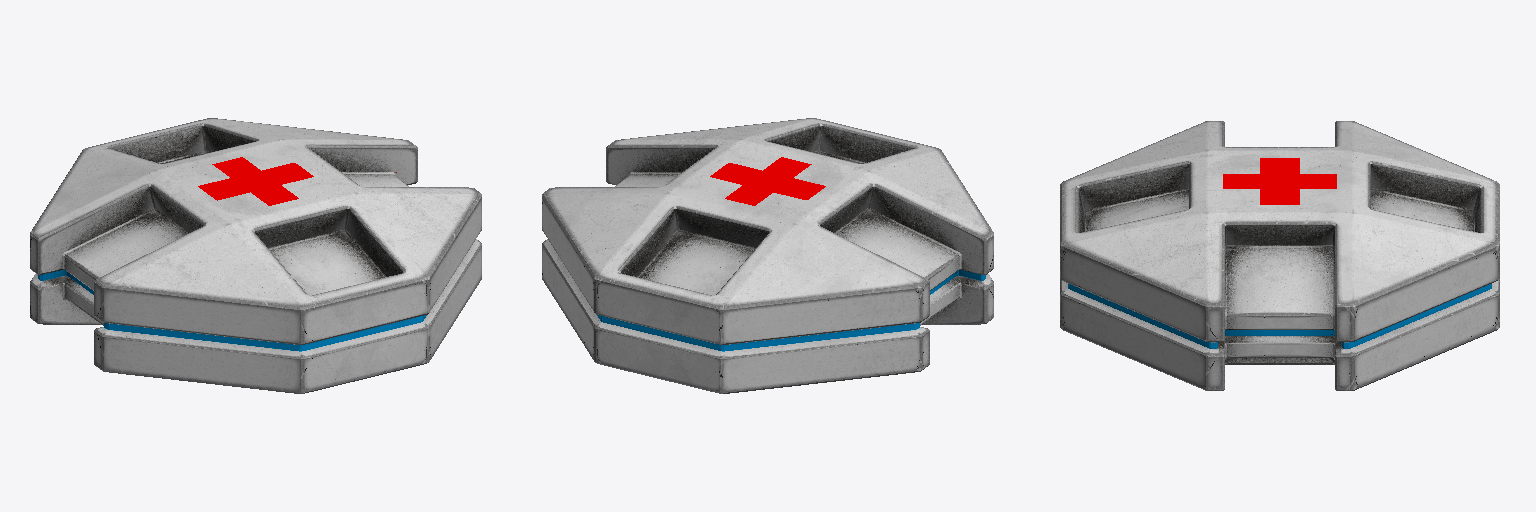
3 renders of one model, left to right at view 1: azimuth 30°, elevation 25°; view 2: azimuth 150°, elevation 25°; view 3: azimuth 270°, elevation 25°, orthographic.
Parts seen in each view (by area): view 1: pCube1; view 2: pCube1; view 3: pCube1.
Boxes of the visible parts, <box> form: pCube1: <box>30,118,481,393</box>; pCube1: <box>542,118,993,393</box>; pCube1: <box>1060,121,1499,390</box>.
Size of the model in its own units: 600 by 224 by 600.
Materials: 1 (1 with a texture image).